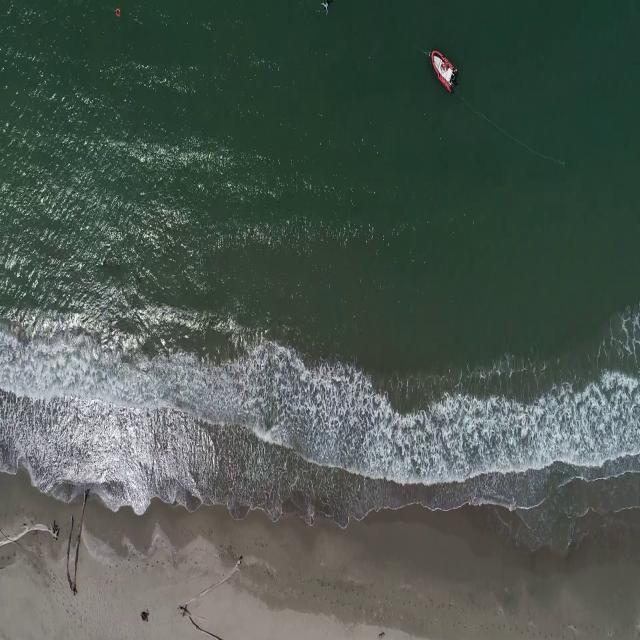boat: (431, 48, 459, 94)
life_buoy: (114, 6, 123, 18)
person: (320, 0, 333, 19)
wood: (176, 558, 243, 609), (67, 489, 88, 602), (178, 604, 226, 640), (0, 522, 63, 546)
